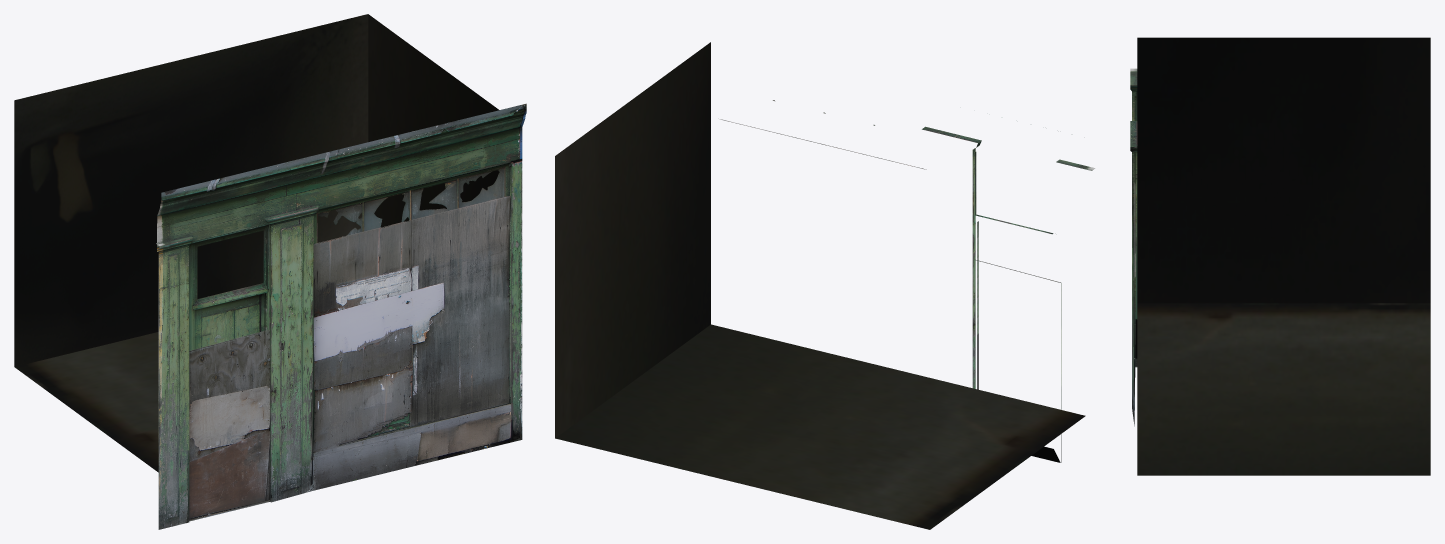
File: 02_shop_front17_derelict.glb
3 views of the same model, side by side, from view 1: azimuth 30°, elevation 25°; view 2: azimuth 150°, elevation 25°; view 3: azimuth 270°, elevation 25° (orthographic). The views are drawn at different scales.
Parts seen in each view (by area): view 1: shop_front17_derelict; view 2: shop_front17_derelict; view 3: shop_front17_derelict.
Boxes of the visible parts, x1,y1,x2,y2 form: shop_front17_derelict: [14, 14, 526, 529]; shop_front17_derelict: [555, 42, 1095, 529]; shop_front17_derelict: [1130, 37, 1430, 475].
Bounding box in the file's own units: 5 × 4.44 × 3.62.
1 material, 1 textured.
